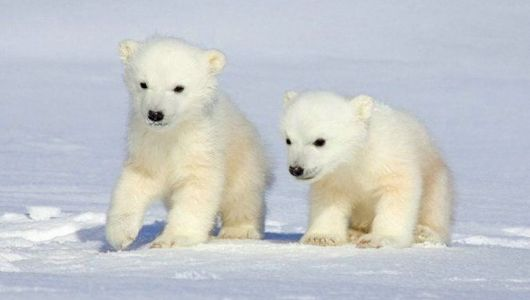bear: (105, 32, 271, 254), (281, 85, 457, 251)
